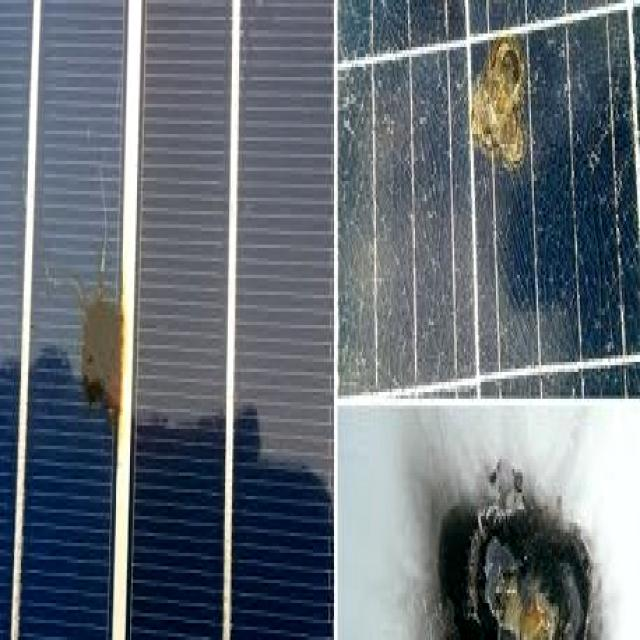shadow: (418, 455, 600, 640), (74, 250, 148, 447), (452, 28, 537, 176)
